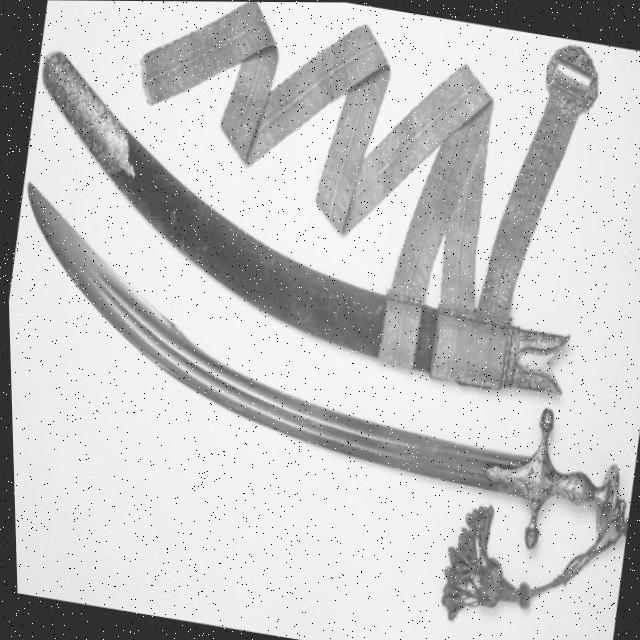knife: (4, 177, 640, 560)
